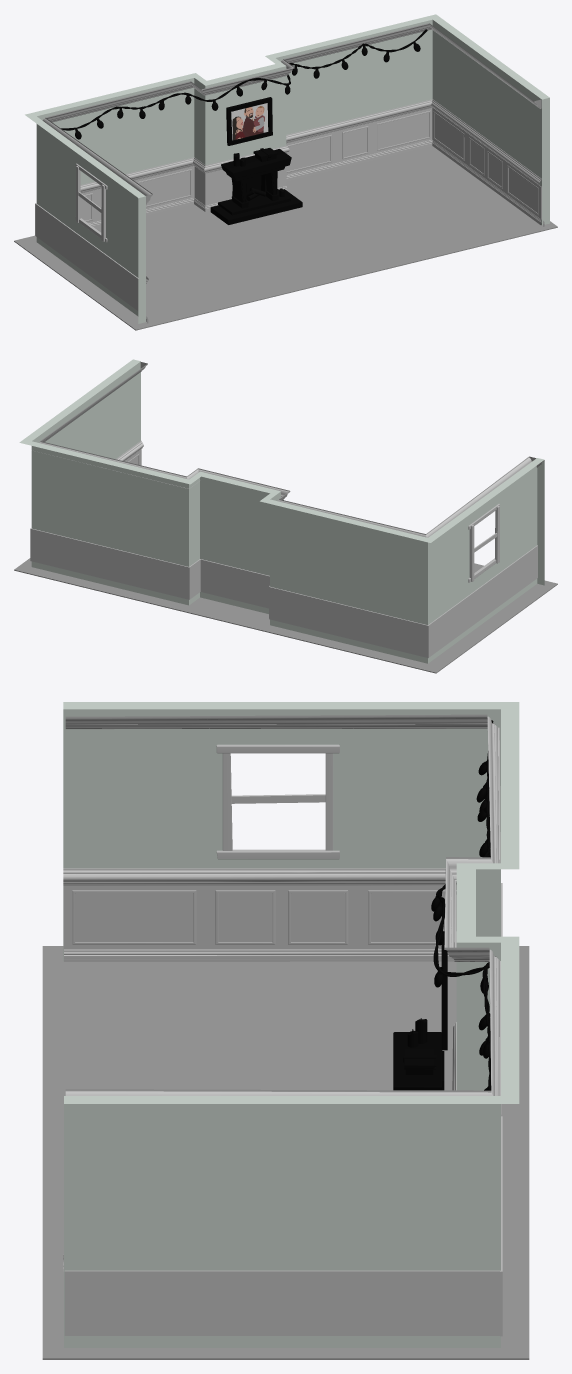
File: CompleteLivingroom.fbx
The picture shows the model from 3 angles, top to bottom: view 1: azimuth 30°, elevation 25°; view 2: azimuth 150°, elevation 25°; view 3: azimuth 270°, elevation 25°; orthographic projection. The views are drawn at different scales.
Visible parts, largest first — view 1: Walls, pPlane2, pCube101, nurbsToPoly1, nurbsToPoly10, nurbsToPoly17, Lights1, polySurface525, pCube11, Window2, polySurface387, polySurface524 (+1 smaller); view 2: Walls, pCube101, pPlane2, nurbsToPoly1, Window2; view 3: Walls, pPlane2, pCube101, nurbsToPoly1, nurbsToPoly10, Window2, nurbsToPoly17, Lights1, polySurface387.
Part boxes in pixels (left/top/right/bottom): Walls: left=25, top=14, right=549, bottom=323; pPlane2: left=14, top=146, right=557, bottom=330; pCube101: left=35, top=107, right=541, bottom=315; nurbsToPoly1: left=42, top=23, right=541, bottom=204; nurbsToPoly10: left=80, top=99, right=541, bottom=283; nurbsToPoly17: left=89, top=140, right=544, bottom=323; Lights1: left=61, top=29, right=427, bottom=139; polySurface525: left=231, top=103, right=268, bottom=140; pCube11: left=210, top=189, right=302, bottom=224; Window2: left=75, top=163, right=107, bottom=242; polySurface387: left=221, top=149, right=291, bottom=178; polySurface524: left=226, top=97, right=272, bottom=145; Walls: left=19, top=359, right=544, bottom=663; pCube101: left=30, top=449, right=537, bottom=657; pPlane2: left=14, top=558, right=557, bottom=673; nurbsToPoly1: left=39, top=362, right=544, bottom=537; Window2: left=468, top=504, right=499, bottom=582; Walls: left=63, top=702, right=519, bottom=1347; pPlane2: left=42, top=946, right=529, bottom=1359; pCube101: left=63, top=883, right=502, bottom=1336; nurbsToPoly1: left=65, top=714, right=501, bottom=1114; nurbsToPoly10: left=63, top=868, right=456, bottom=1270; Window2: left=216, top=744, right=339, bottom=859; nurbsToPoly17: left=64, top=949, right=454, bottom=961; Lights1: left=431, top=720, right=493, bottom=1090; polySurface387: left=393, top=1032, right=442, bottom=1090.
Bounding box in the file's own units: 678 × 195 × 338.
